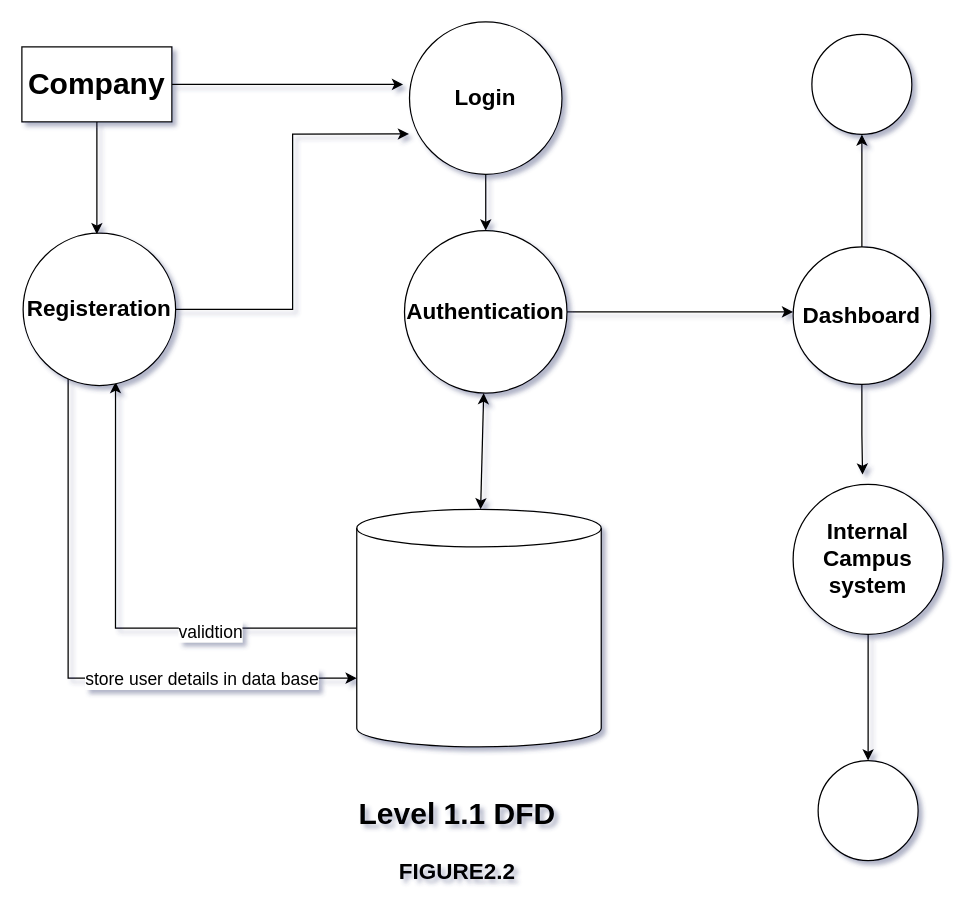
The diagram is 973 pixels wide and 923 high, and some of its shapes have lost their labels. The shapes that lost their labels are listed below. From the top down, each one's centre as x and y in pixels, then its label:
At (x=861, y=83): "Logout".
At (x=478, y=627): "Database".
At (x=867, y=810): "Send Mail".
